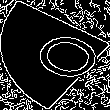O_SE: (9, 22, 101, 88)
